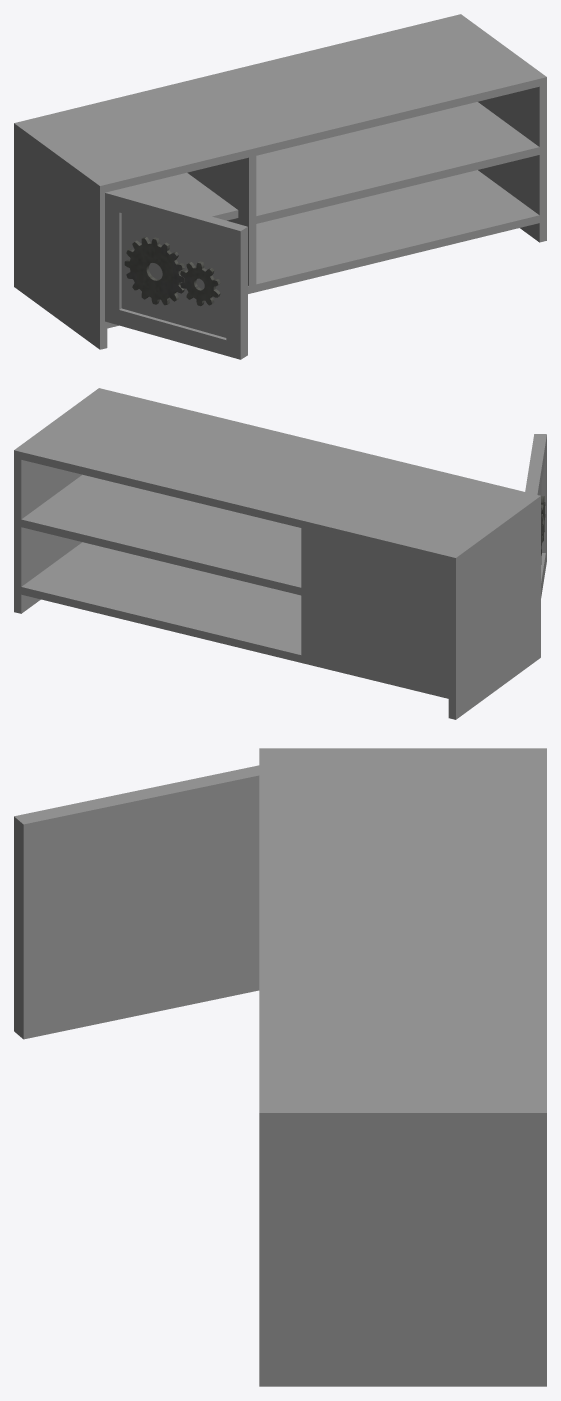
3 views of the same model, one above another, from view 1: azimuth 30°, elevation 25°; view 2: azimuth 150°, elevation 25°; view 3: azimuth 270°, elevation 25° (orthographic). The views are drawn at different scales.
Visible parts, largest first — view 1: 69281, 69282, 69304, 69279, 69284, 69199, 69280, 69283, 16 Tooth Gear, 69305, 10 Tooth Gear; view 2: 69281, 69282, 69476, 69304, 69279, 69280, 69305, 69283, 69284, 69199; view 3: 69281, 69280, 69199, 69284.
Boxes of the visible parts, box(x1,y1,x2,y2) form: 69281: box(14, 14, 546, 193); 69282: box(107, 170, 539, 328); 69304: box(256, 102, 539, 223); 69279: box(14, 131, 107, 349); 69284: box(105, 192, 242, 359); 69199: box(109, 189, 247, 357); 69280: box(478, 85, 546, 242); 69283: box(187, 156, 256, 285); 16 Tooth Gear: box(124, 237, 184, 305); 69305: box(118, 172, 238, 220); 10 Tooth Gear: box(180, 261, 220, 306); 69281: box(14, 388, 540, 565); 69282: box(21, 542, 448, 698); 69476: box(308, 530, 448, 690); 69304: box(21, 474, 301, 595); 69279: box(448, 504, 540, 719); 69280: box(14, 458, 82, 613); 69305: box(308, 590, 448, 631); 69283: box(301, 528, 308, 656); 69284: box(533, 434, 546, 597); 69199: box(525, 434, 542, 493); 69281: box(259, 748, 546, 1125); 69280: box(259, 1126, 546, 1386); 69199: box(17, 769, 259, 1039); 69284: box(14, 765, 259, 1033).
Size of the model in its own units: 1.2 by 0.42 by 0.7414.
Materials: 1163 (1102 with a texture image).
